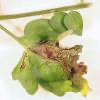Tomato leaf late blight: (12, 41, 96, 98)
